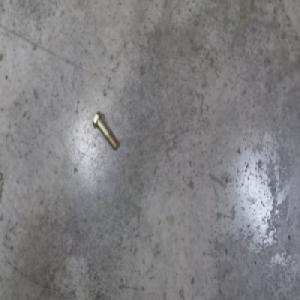Bolt: (92, 110, 118, 152)
